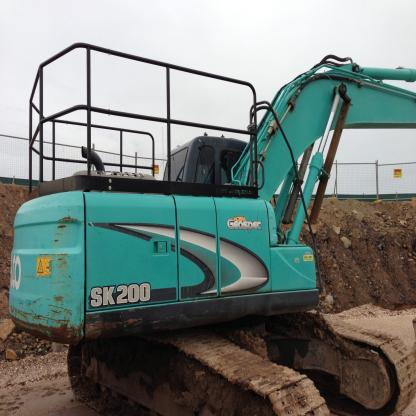excavator: (17, 9, 416, 404)
